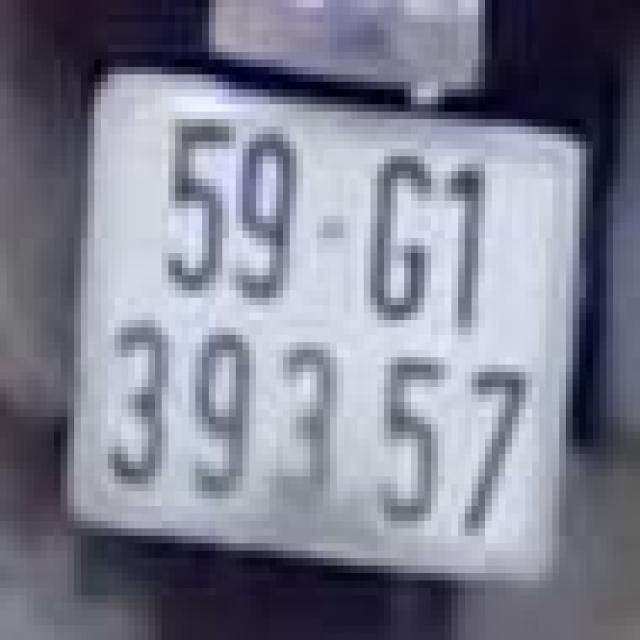1: (441, 156, 495, 335)
3: (266, 335, 347, 513), (98, 316, 172, 502)
5: (158, 100, 239, 302), (367, 338, 441, 540)
7: (454, 350, 536, 543)
9: (236, 119, 310, 305), (182, 324, 256, 502)
G: (357, 149, 438, 327)
